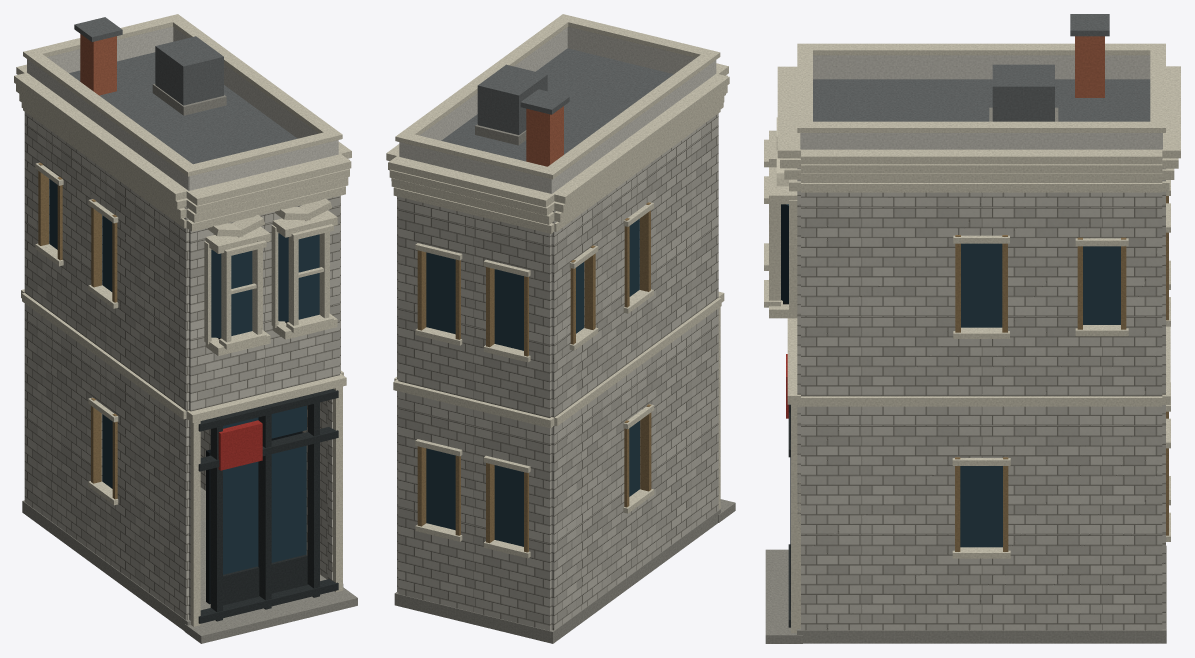
File: BUSS6_lod2.glb
The picture shows the model from 3 angles, left to right: view 1: azimuth 30°, elevation 25°; view 2: azimuth 150°, elevation 25°; view 3: azimuth 270°, elevation 25°; orthographic projection. The views are drawn at different scales.
Parts seen in each view (by area): view 1: BUSS6_LOD2; view 2: BUSS6_LOD2; view 3: BUSS6_LOD2.
Boxes of the visible parts, x1,y1,x2,y2 form: BUSS6_LOD2: (14, 14, 357, 643); BUSS6_LOD2: (386, 14, 735, 643); BUSS6_LOD2: (764, 14, 1180, 643).
Bounding box in the file's own units: 3.78 × 10.25 × 6.92.
Materials: 11 (9 with a texture image).
